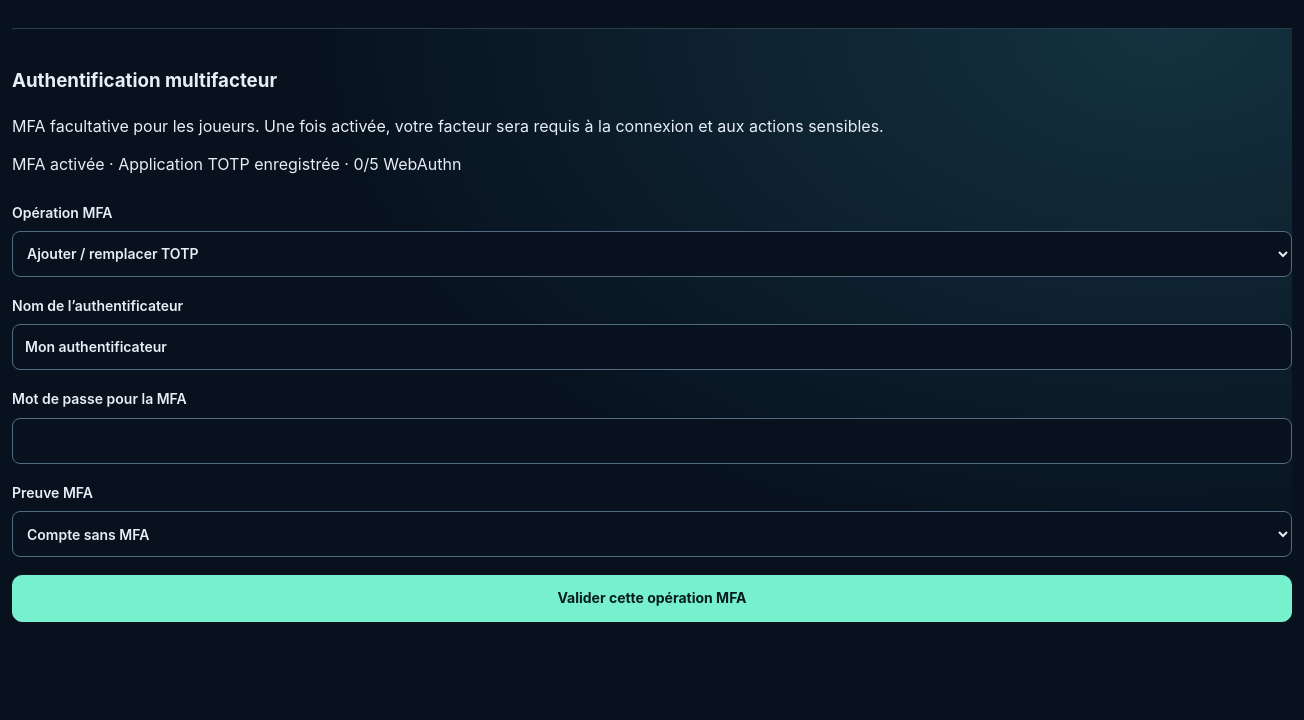
Scenario: voluntary code regeneration supplies an existing factor and preserves the session
This screenshot has width=1304, height=720.
Expected: the text "MFA activée · Application TOTP enregistrée · 0/5 WebAuthn" is shown, [12,154,462,174]
Select "Régénérer les secours" in the dropdown labelled "Opération MFA" at x=652, y=254, box [12,231,1292,277]
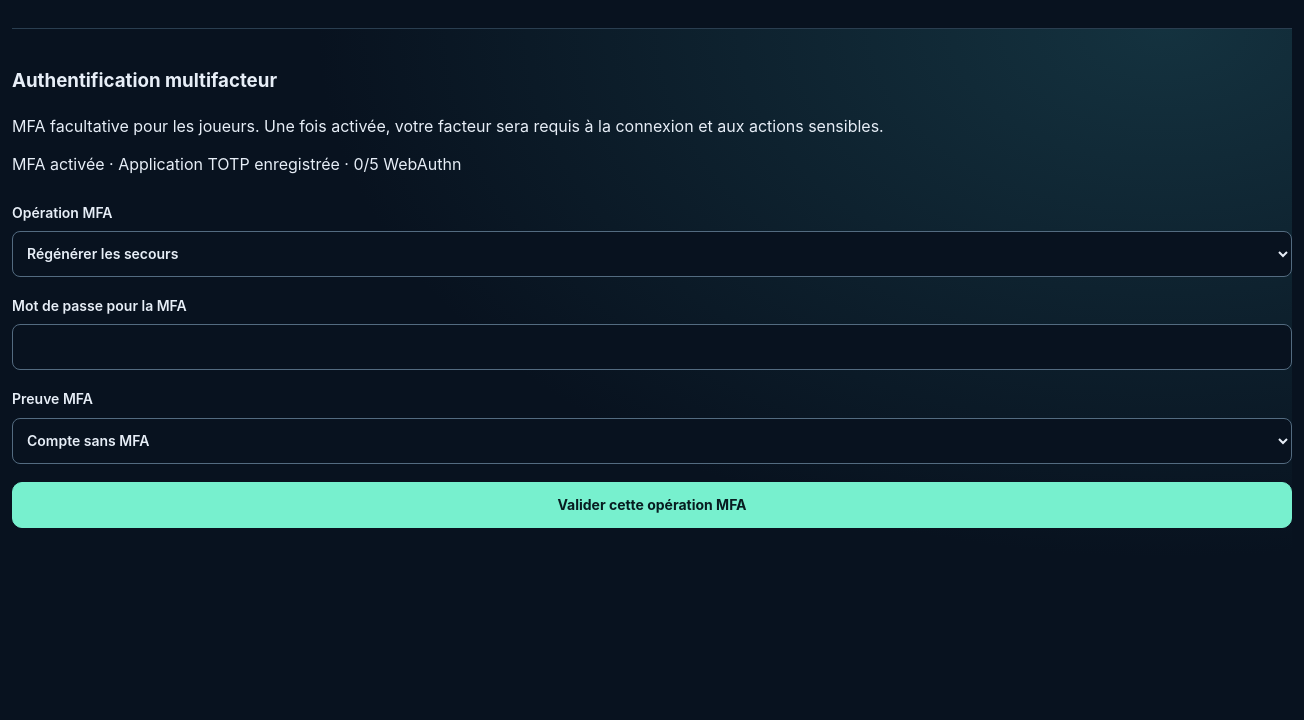
Type "Current password long !" into the password field labelled "Mot de passe pour la MFA" at x=652, y=347, box [12,324,1292,370]
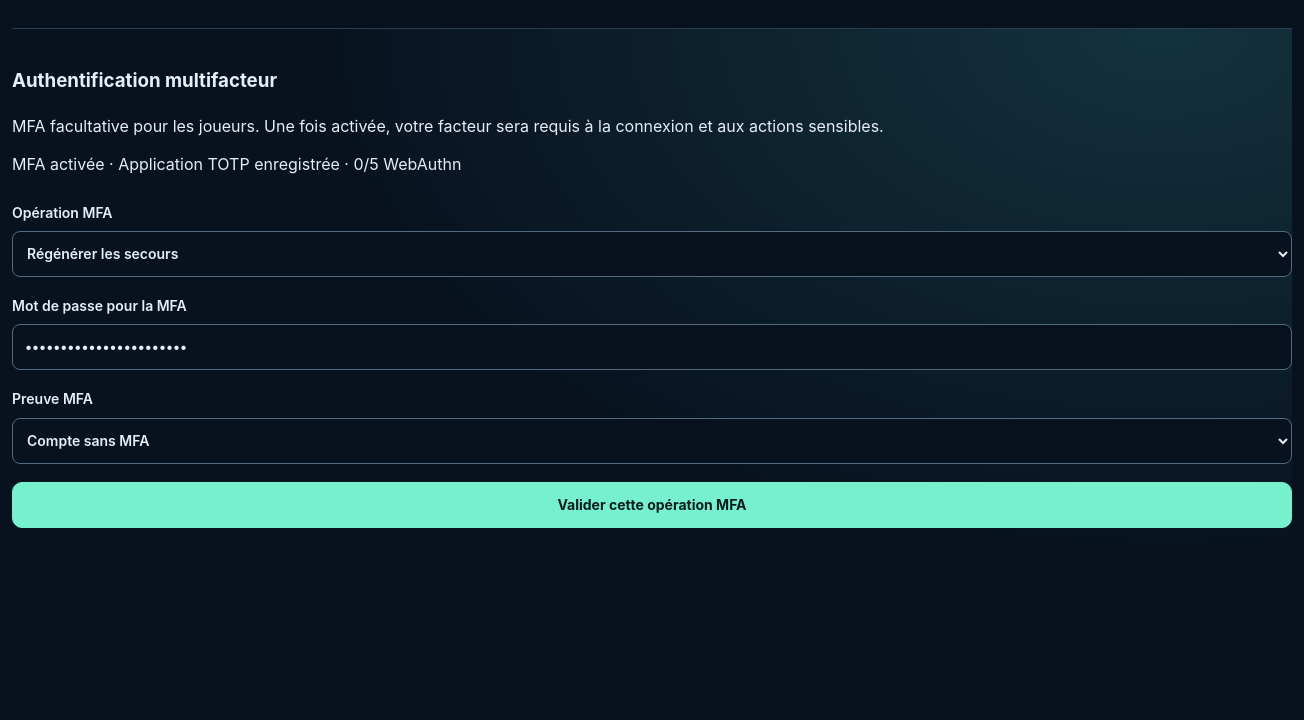
Select "Application TOTP" in the dropdown labelled "Preuve MFA" at x=652, y=441, box [12,418,1292,464]
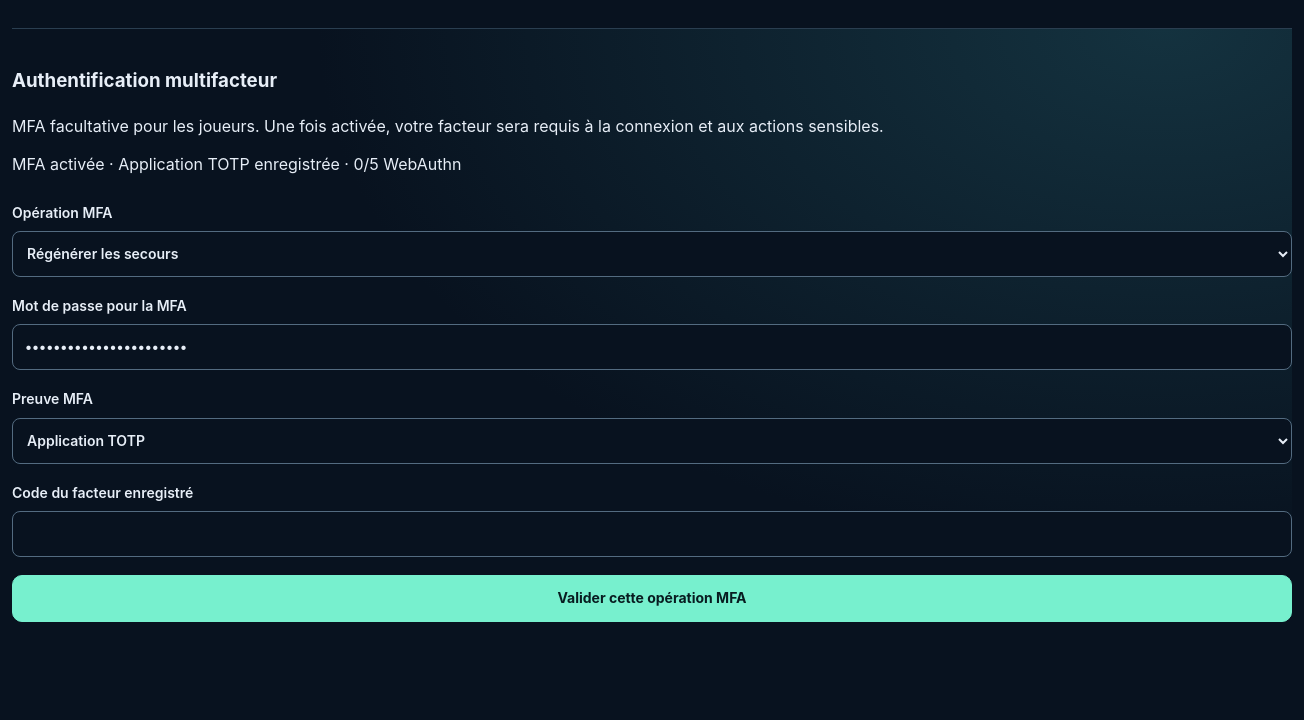
Type "123456" into the password field labelled "Code du facteur enregistré" at x=652, y=534, box [12,511,1292,557]
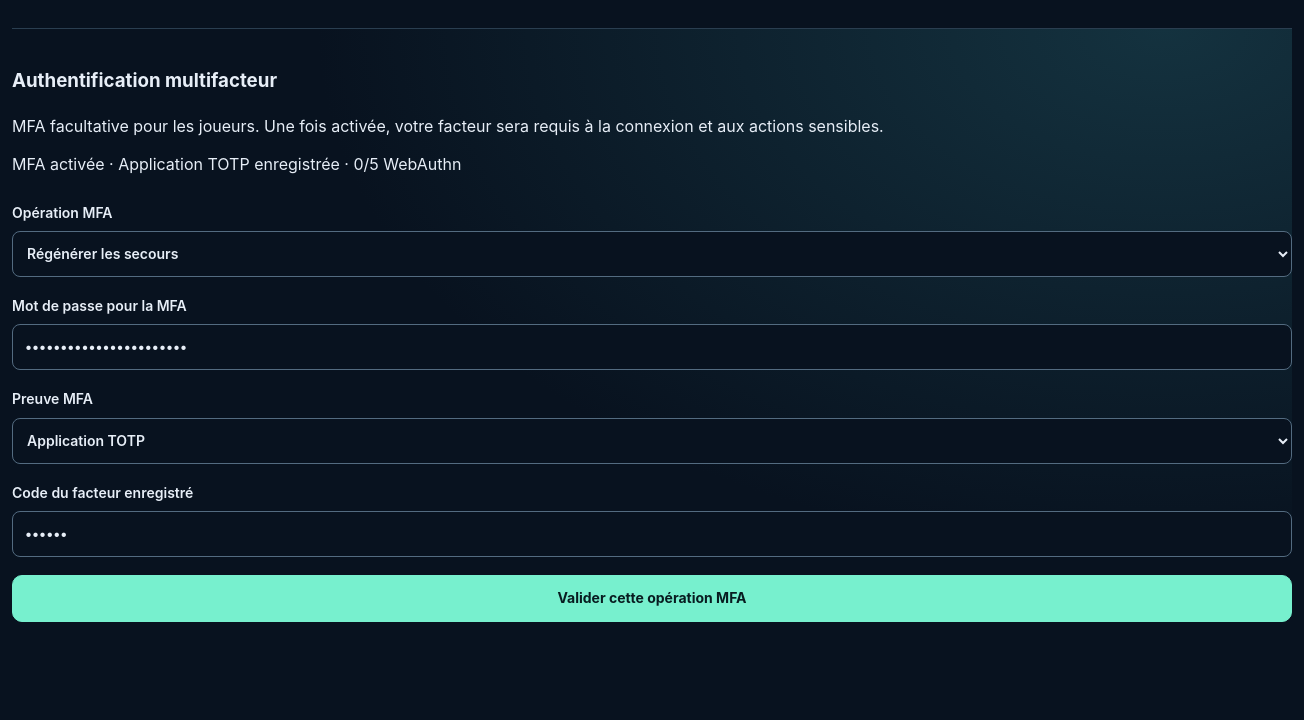
Click the button "Valider cette opération MFA" at x=652, y=598, box [12,575,1292,622]
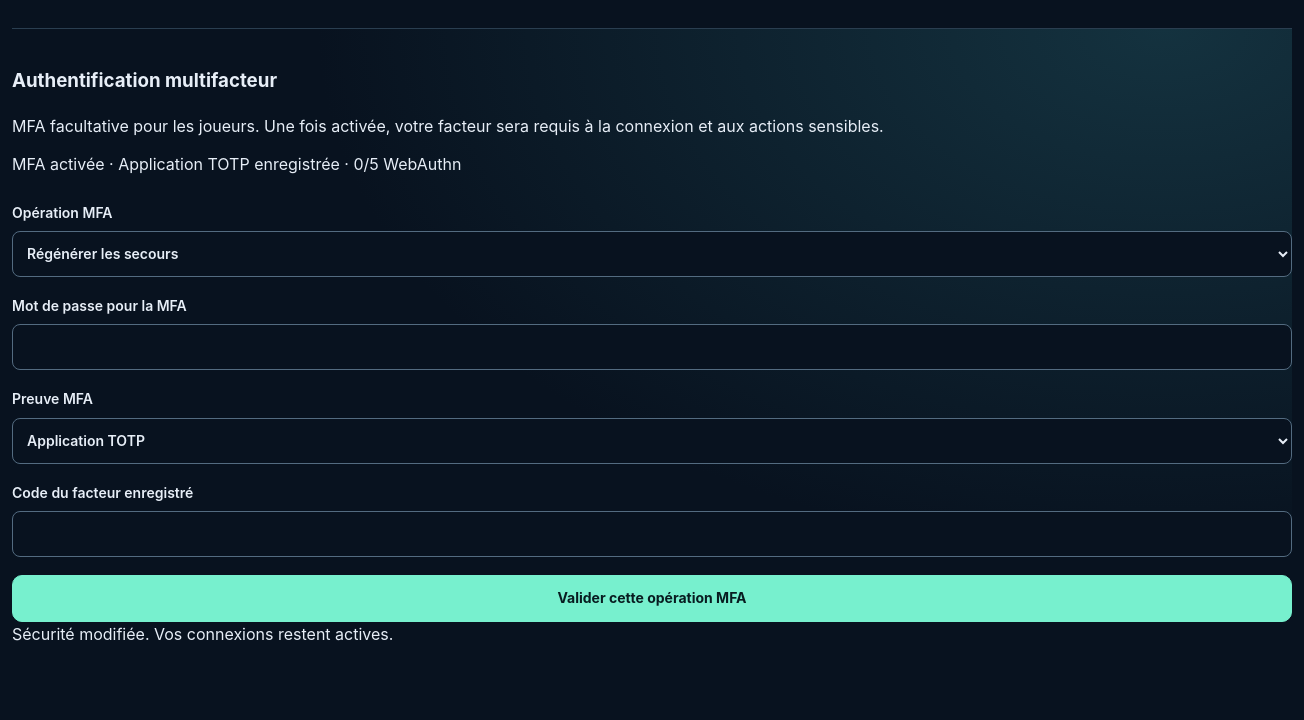
Expected: the message shows "Vos connexions restent actives", [12,624,393,644]
